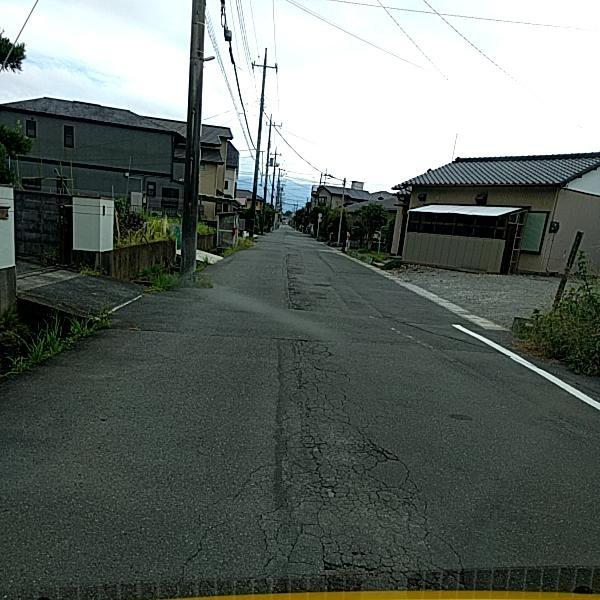pothole: (322, 551, 368, 576)
